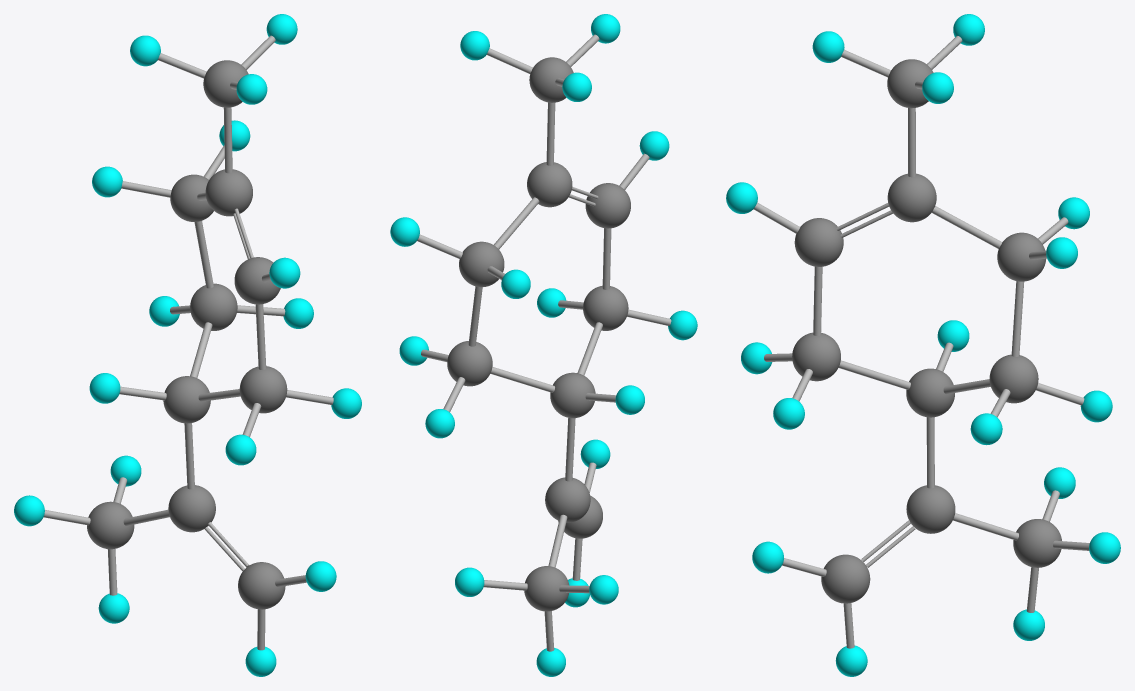
Rendered from l-limonene.glb.
3 renders of one model, left to right at view 1: azimuth 30°, elevation 25°; view 2: azimuth 150°, elevation 25°; view 3: azimuth 270°, elevation 25°, orthographic. The views are drawn at different scales.
Visible parts, largest first — view 1: CMBond_28_Segment_0.001; view 2: CMBond_28_Segment_0.001; view 3: CMBond_28_Segment_0.001.
Part boxes in pixels (box(x1,y1,x2,y2)): CMBond_28_Segment_0.001: box(14, 14, 361, 676); CMBond_28_Segment_0.001: box(390, 14, 697, 676); CMBond_28_Segment_0.001: box(726, 14, 1120, 676).
Bounding box in the file's own units: 0.3898 × 0.8789 × 0.4964.
